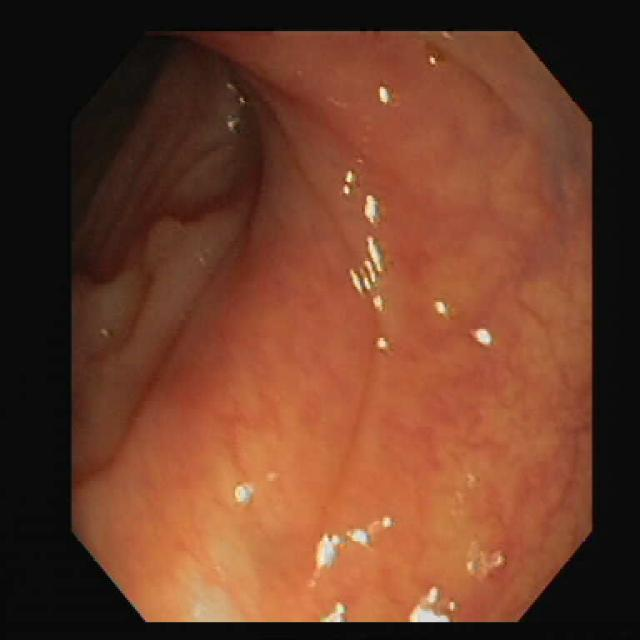tumor: (140, 216, 192, 271)
